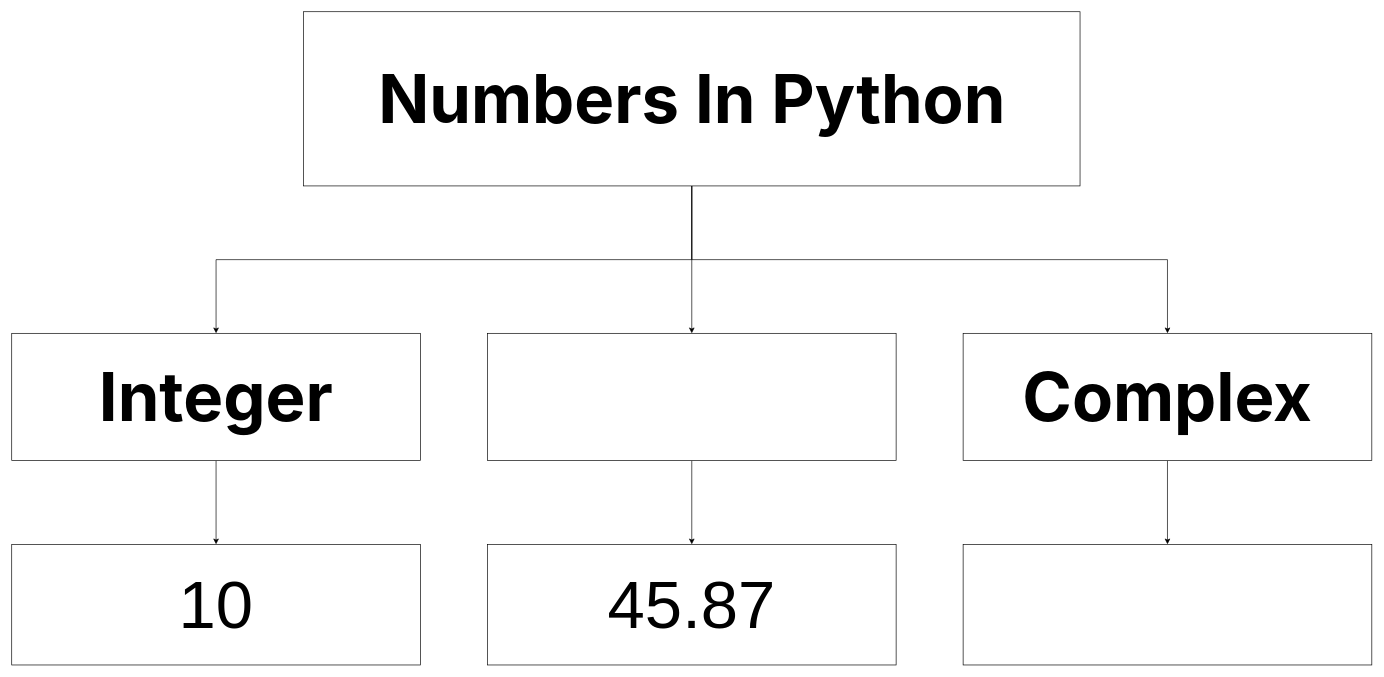
The diagram is 1384 pixels wide and 677 high, and some of its shapes have lost their labels. The centre of each missing label's shape, as x and y in pixels:
3 + 5j: [1167,604]
Float: [691,397]
